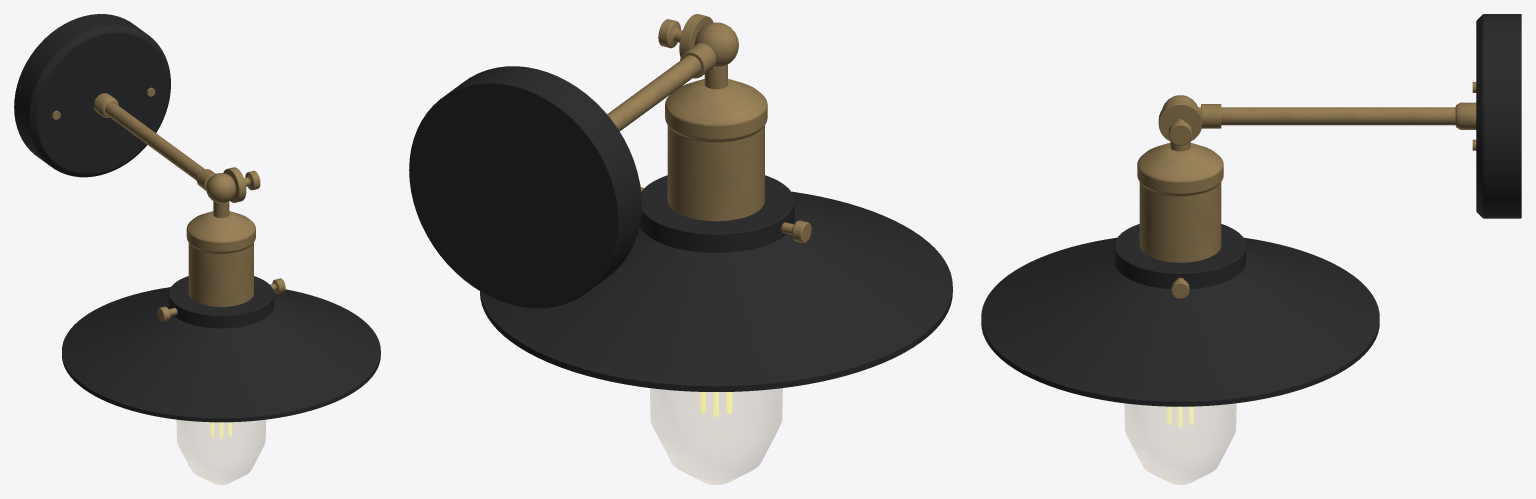
The model's file is american-industrial-iron-wall-lamp.glb.
3 renders of one model, left to right at view 1: azimuth 30°, elevation 25°; view 2: azimuth 150°, elevation 25°; view 3: azimuth 270°, elevation 25°, orthographic. The views are drawn at different scales.
Visible parts, largest first — view 1: ConeShade, Backplate, Socket, Bulb, Collar, Arm, Knuckle, KnuckleDisc; view 2: ConeShade, Backplate, Socket, Bulb, Collar, Arm, Knuckle, KnuckleDisc, ArmEnd; view 3: ConeShade, Backplate, Socket, Bulb, Collar, Arm, KnuckleDisc, ArmBoss.
Part boxes in pixels (bbox=[...]): ConeShade: bbox=[62, 287, 380, 422]; Backplate: bbox=[14, 14, 170, 177]; Socket: bbox=[186, 211, 255, 306]; Bulb: bbox=[176, 420, 265, 484]; Collar: bbox=[168, 276, 273, 328]; Arm: bbox=[105, 102, 204, 180]; Knuckle: bbox=[206, 173, 235, 203]; KnuckleDisc: bbox=[223, 167, 246, 202]; ConeShade: bbox=[480, 191, 952, 391]; Backplate: bbox=[409, 66, 641, 308]; Socket: bbox=[665, 79, 767, 221]; Bulb: bbox=[650, 388, 782, 484]; Collar: bbox=[639, 175, 794, 252]; Arm: bbox=[607, 55, 701, 131]; Knuckle: bbox=[694, 22, 738, 67]; KnuckleDisc: bbox=[679, 14, 713, 57]; ArmEnd: bbox=[680, 43, 716, 78]; ConeShade: bbox=[981, 237, 1379, 406]; Backplate: bbox=[1476, 14, 1521, 218]; Socket: bbox=[1137, 143, 1223, 262]; Bulb: bbox=[1124, 403, 1236, 484]; Collar: bbox=[1114, 224, 1246, 288]; Arm: bbox=[1198, 107, 1455, 125]; KnuckleDisc: bbox=[1158, 100, 1202, 141]; ArmBoss: bbox=[1455, 102, 1476, 129].
Size of the model in its own units: 0.2225 by 0.2819 by 0.3018.
Materials: 4 (2 with a texture image).
